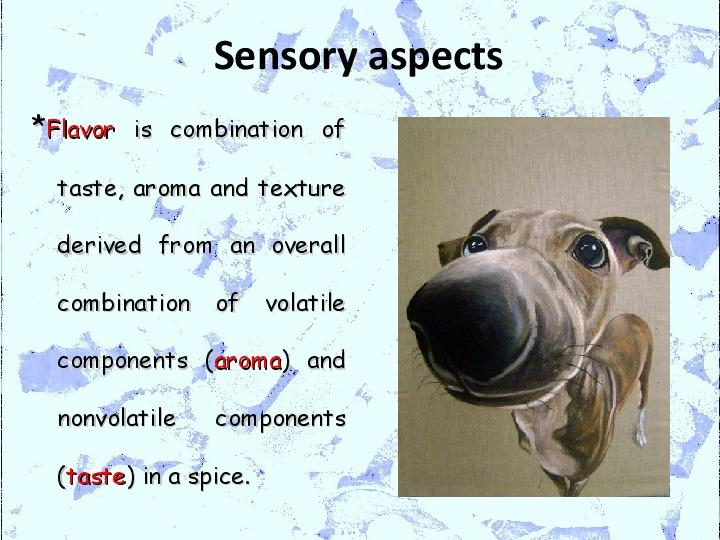paragraph: (24, 96, 381, 521)
title: (208, 32, 540, 83)
